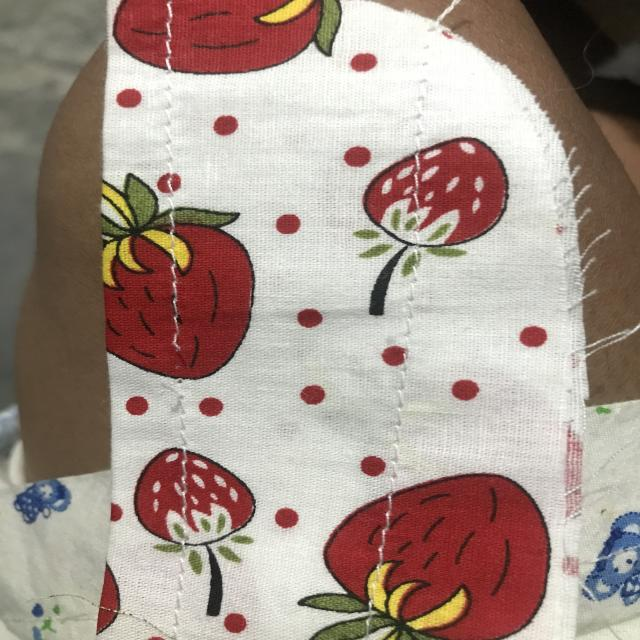broken: (146, 326, 207, 410)
good: (382, 380, 421, 462)
